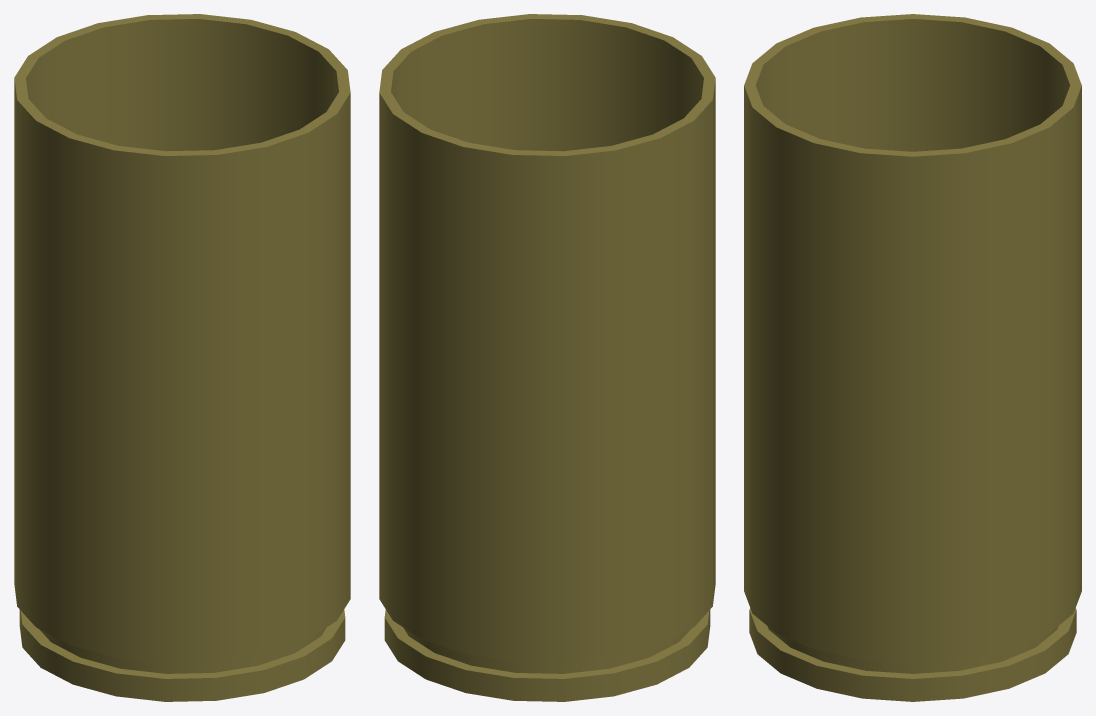
The model's file is Pistol_Bullet_Case.obj.
The picture shows the model from 3 angles, left to right: view 1: azimuth 30°, elevation 25°; view 2: azimuth 150°, elevation 25°; view 3: azimuth 270°, elevation 25°; orthographic projection.
Visible parts, largest first — view 1: pCylinder3; view 2: pCylinder3; view 3: pCylinder3.
Boxes of the visible parts, x1,y1,x2,y2 form: pCylinder3: (14, 14, 350, 701); pCylinder3: (379, 14, 715, 701); pCylinder3: (744, 14, 1081, 701).
Size of the model in its own units: 2.21 by 4.02 by 2.21.
